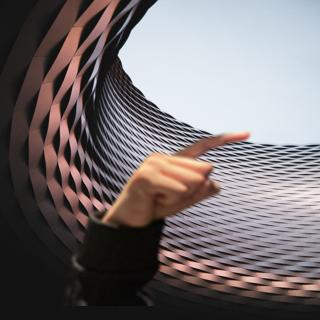WHY: (99, 119, 254, 229)
